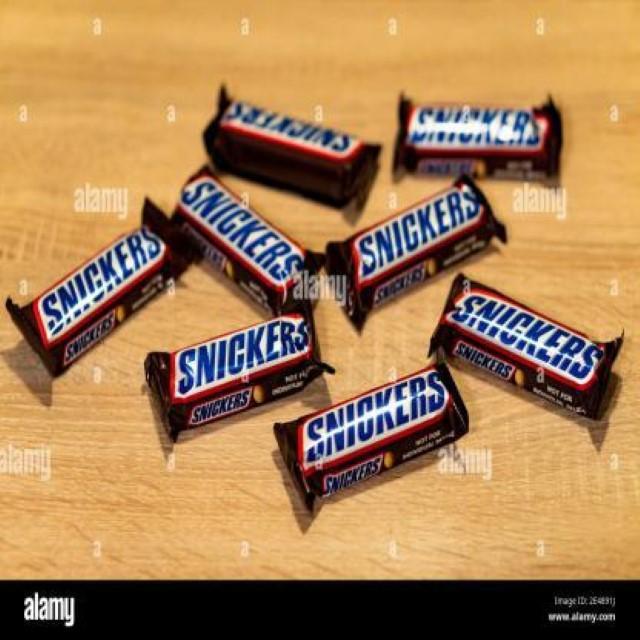snickers_chocolate: (443, 284, 607, 428), (140, 305, 322, 430), (293, 348, 430, 494), (48, 204, 158, 374), (177, 168, 310, 308), (345, 192, 502, 290), (222, 93, 386, 180), (235, 97, 383, 188), (420, 95, 562, 168)
